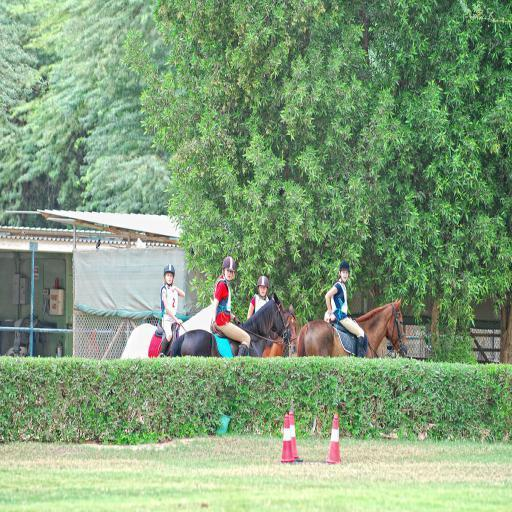horse: (170, 290, 292, 358), (296, 296, 408, 358), (118, 296, 216, 360), (262, 302, 298, 358)
